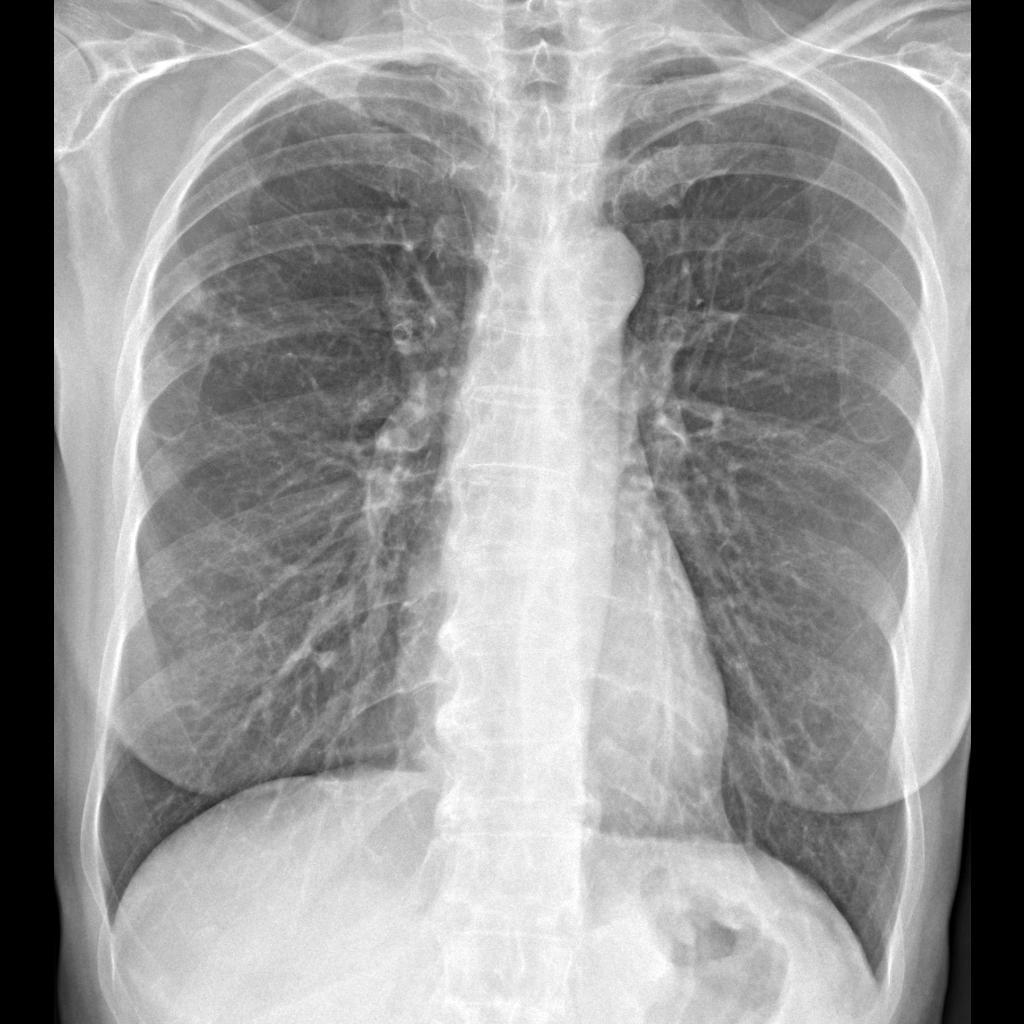Nodule: (162, 260, 222, 321)
